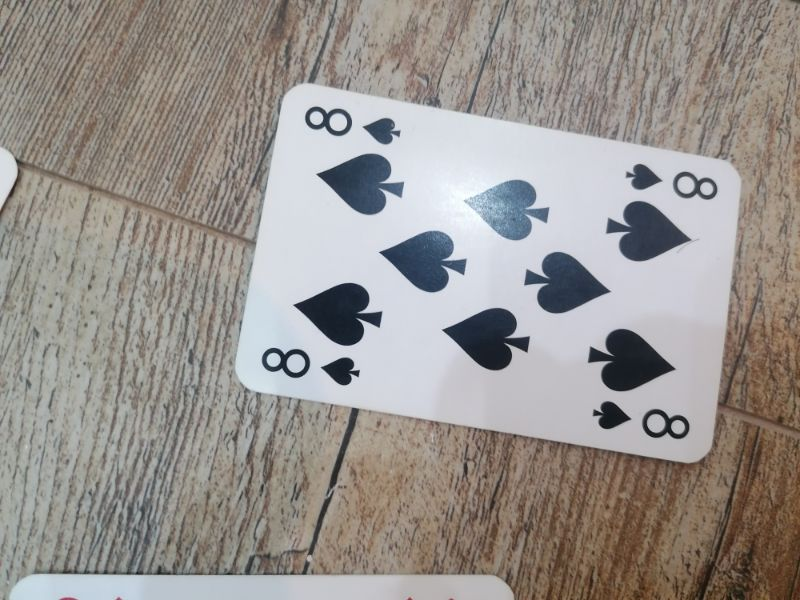8s: (591, 395, 693, 444), (259, 343, 363, 388), (299, 103, 402, 148), (622, 158, 722, 202)
